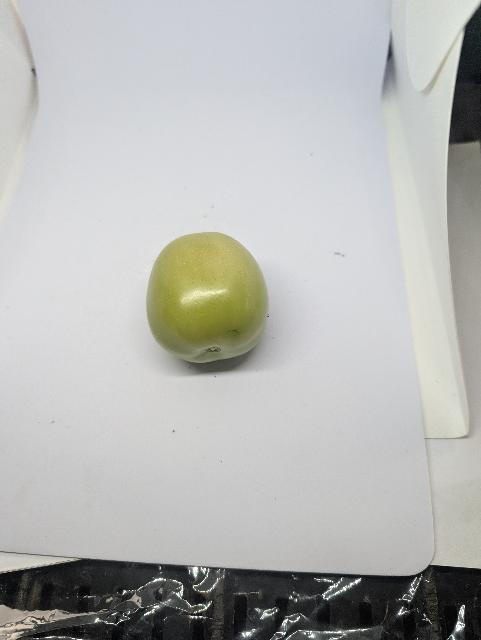green: (145, 229, 272, 364)
